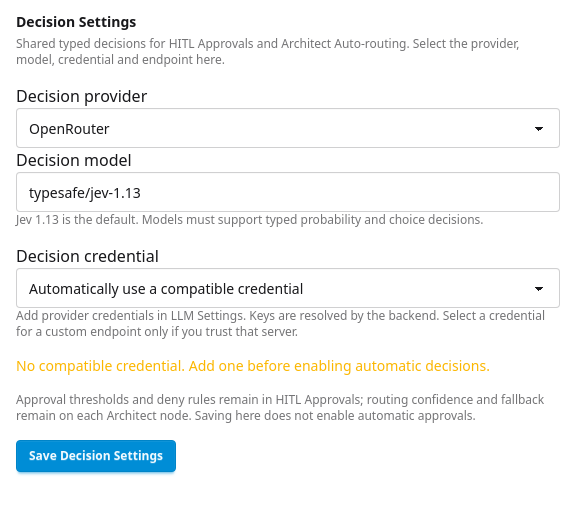
Scenario: DecisionSettingsPanel › uses the default cookie adapter, recovers explicit 401 and persists through it
Expected: the dropdown labelled "Decision provider" is shown, [16,108,560,148]
Click the button "Save Decision Settings": (96, 456) [16,440,176,472]
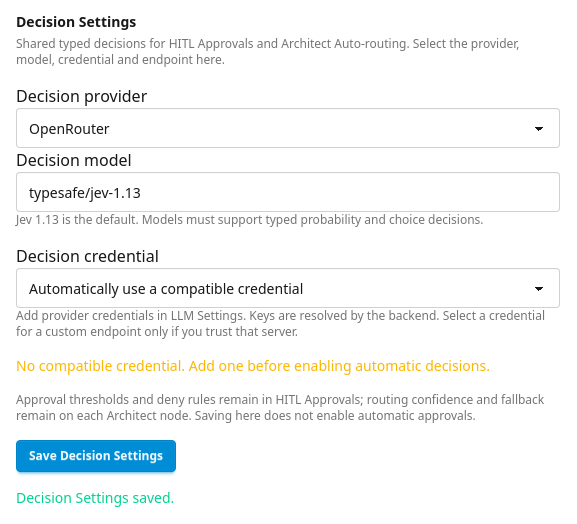
Expected: the text "Decision Settings saved." is shown, [16,488,174,507]
